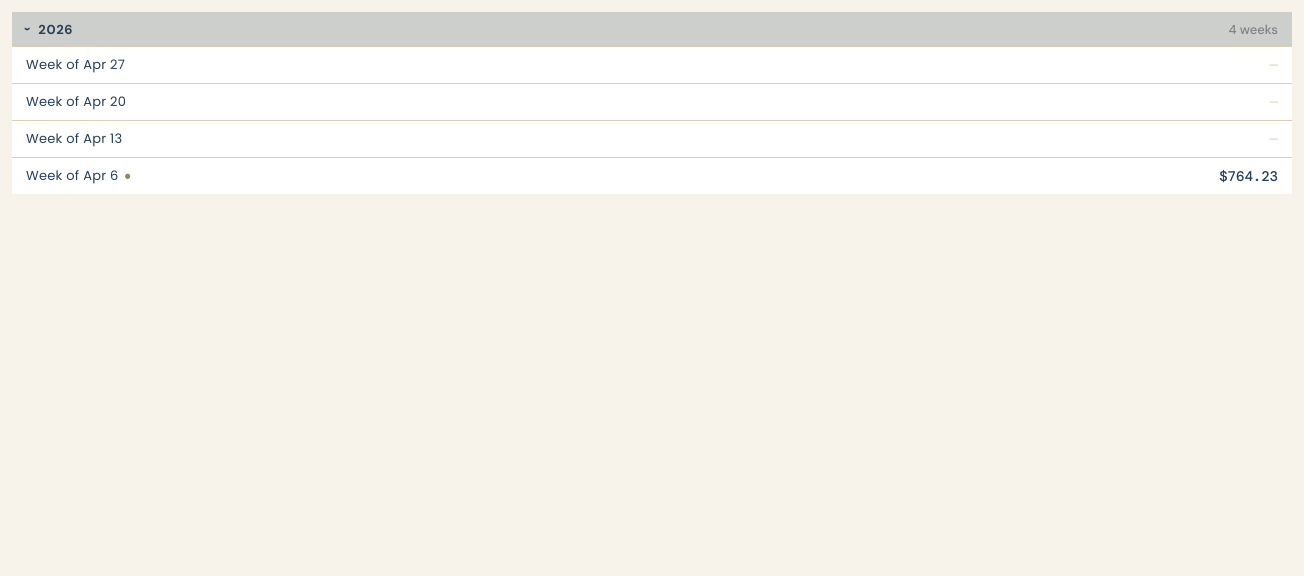
Test case: CheckLog — edit history popover › shows 'View all X edits' button when editHistory.length > 1 (line 351)
Step 1. Click the button titled "View edit history" → {"x": 128, "y": 176}, box top-left (125, 167), bottom-right (131, 185)
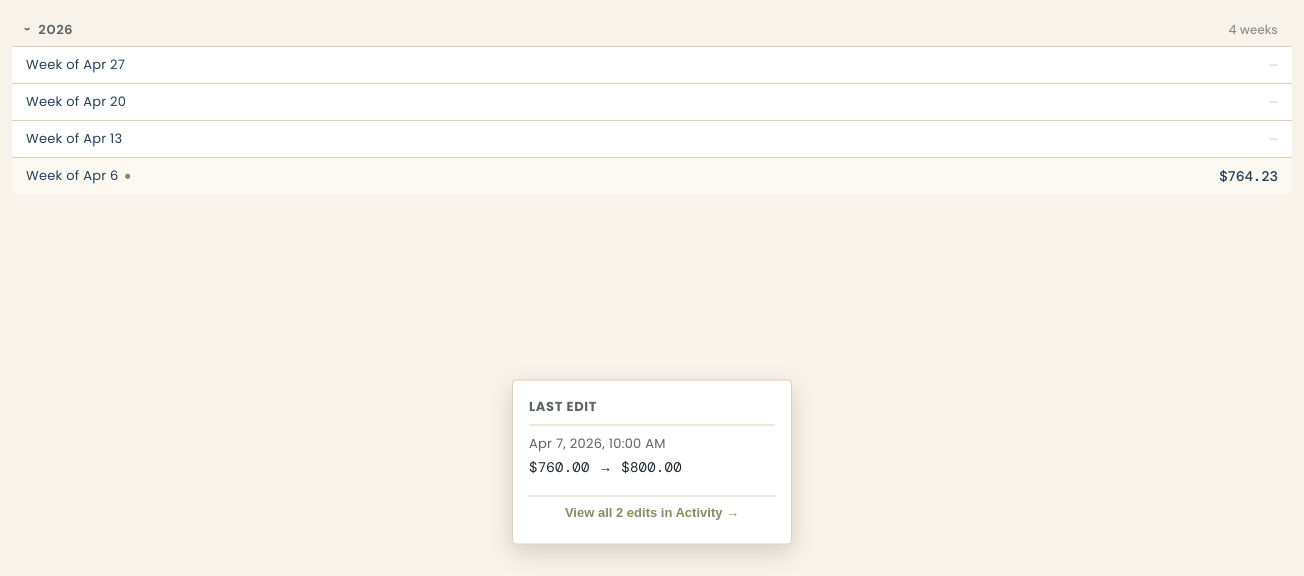
Now the button "View all 2 edits in Activity →" is shown, box top-left (529, 496), bottom-right (775, 528)
